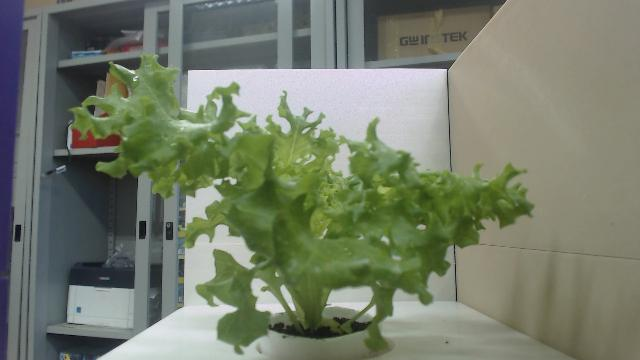Harvest Stage: (68, 52, 536, 356)
